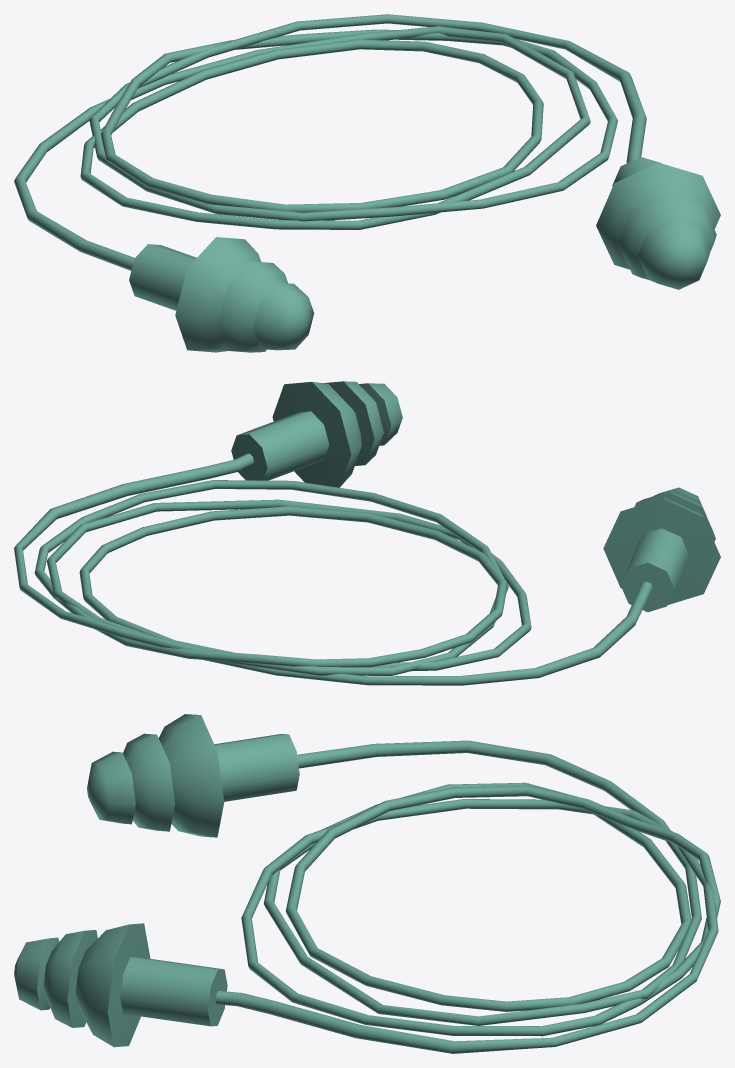
The model's file is seguranca-obj_protetorauricular.fbx.
3 views of the same model, one above another, from view 1: azimuth 30°, elevation 25°; view 2: azimuth 150°, elevation 25°; view 3: azimuth 270°, elevation 25° (orthographic). The views are drawn at different scales.
Visible parts, largest first — view 1: Protetor_Auricular; view 2: Protetor_Auricular; view 3: Protetor_Auricular.
Part boxes in pixels (left/top/right/bottom): Protetor_Auricular: left=14, top=14, right=720, bottom=352; Protetor_Auricular: left=14, top=381, right=720, bottom=685; Protetor_Auricular: left=14, top=714, right=720, bottom=1053.
Size of the model in its own units: 3.05 by 0.5639 by 2.97.
